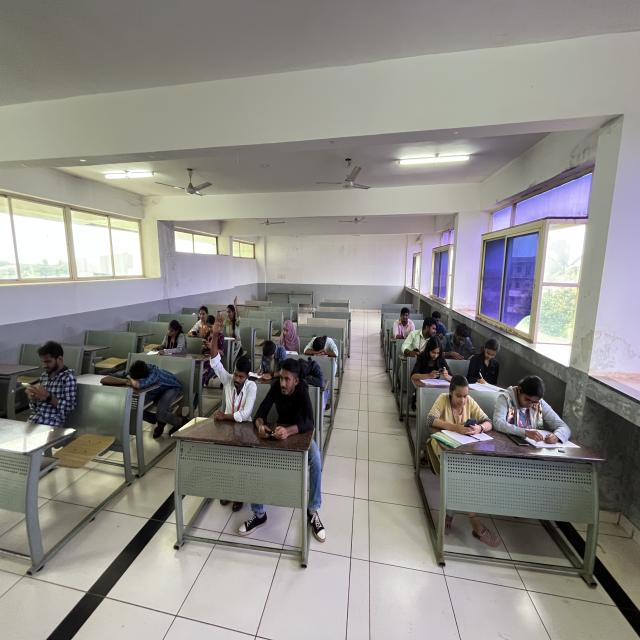Sleeping: (102, 354, 174, 416)
Using Phone: (13, 329, 84, 423)
